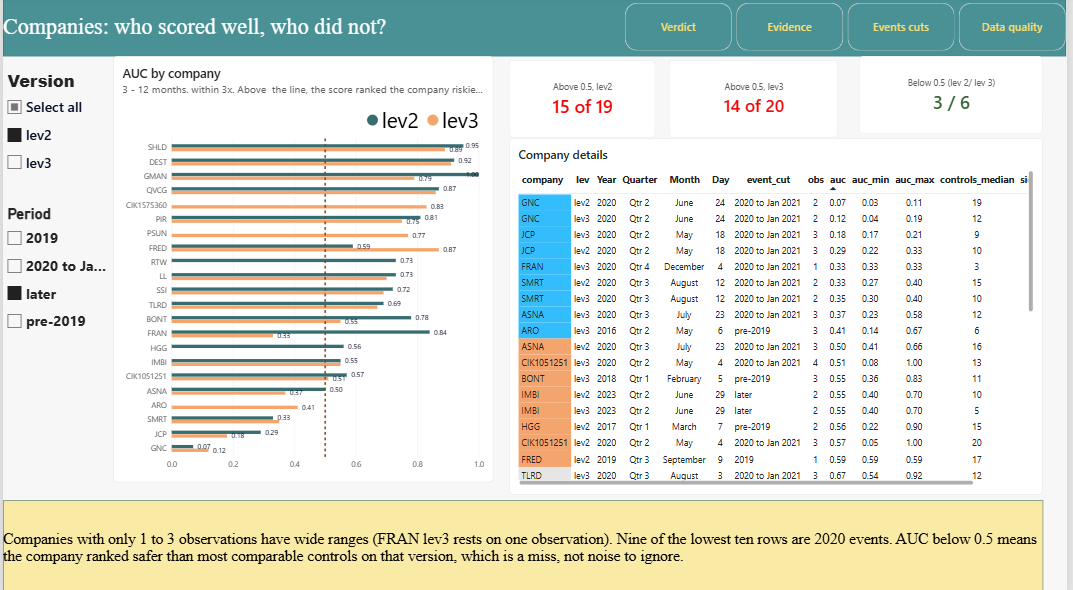

What the dashboard file says about the page in this screenshot:
{"tool":"powerbi","page":{"name":"Companies","canvas":[1920,1080],"ordinal":3},"visuals":[{"type":"shape","box":[0,0,1920,107.4],"z":0},{"type":"tableEx","title":"Company details","fields":{"Values":["retail_risk v_company_events.company","retail_risk v_company_events.lev","retail_risk v_company_events.event_date.Variation.Date Hierarchy.Year","retail_risk v_company_events.event_date.Variation.Date Hierarchy.Quarter","retail_risk v_company_events.event_date.Variation.Date Hierarchy.Month","retail_risk v_company_events.event_date.Variation.Date Hierarchy.Day","retail_risk v_company_events.event_cut","retail_risk v_company_events.obs","retail_risk v_company_events.auc","retail_risk v_company_events.auc_min","retail_risk v_company_events.auc_max","retail_risk v_company_events.controls_median"]},"box":[914.6,253.9,964.1,644.1],"z":1000},{"type":"slicer","fields":{"Values":["retail_risk v_company_results.event_cut"]},"box":[0,375.7,198.2,235.4],"z":2000},{"type":"slicer","fields":{"Values":["retail_risk v_company_results.lev"]},"box":[0,130.1,165.2,225],"z":3000},{"type":"clusteredBarChart","title":"AUC by company","fields":{"Category":["retail_risk v_company_events.company"],"Y":["Avg(retail_risk v_company_events.auc)"],"Series":["retail_risk v_company_events.lev"]},"box":[198.2,107.4,687.5,770.1],"z":4000},{"type":"cardVisual","fields":{"Data":["retail_risk v_company_events.Above lev2"]},"box":[914.6,113.5,264.3,140.4],"z":5000},{"type":"cardVisual","fields":{"Data":["retail_risk v_company_events.Below half"]},"box":[1546.3,107.4,332.4,140.4],"z":6000},{"type":"cardVisual","fields":{"Data":["retail_risk v_company_events.Above lev3"]},"box":[1203.6,113.5,305.5,140.4],"z":7000},{"type":"shape","box":[0,908.4,1878.7,171.4],"z":8000},{"type":"pageNavigator","box":[1123.1,10.3,796.9,86.7],"z":8001}]}

Visuals, with their boxes in screenshot pixels (x1, y1, x2, y2), scaled from the page's 1920x1080 canvas onto the 1073x590 screenshot:
shape: (0, 0, 1072, 59)
"Company details" tableEx: (511, 139, 1050, 491)
slicer - retail_risk v_company_results.event_cut: (0, 205, 111, 334)
slicer - retail_risk v_company_results.lev: (0, 71, 92, 194)
"AUC by company" clusteredBarChart: (111, 59, 495, 479)
cardVisual - retail_risk v_company_events.Above lev2: (511, 62, 659, 139)
cardVisual - retail_risk v_company_events.Below half: (864, 59, 1050, 135)
cardVisual - retail_risk v_company_events.Above lev3: (673, 62, 843, 139)
shape: (0, 496, 1050, 589)
pageNavigator: (628, 6, 1072, 53)
